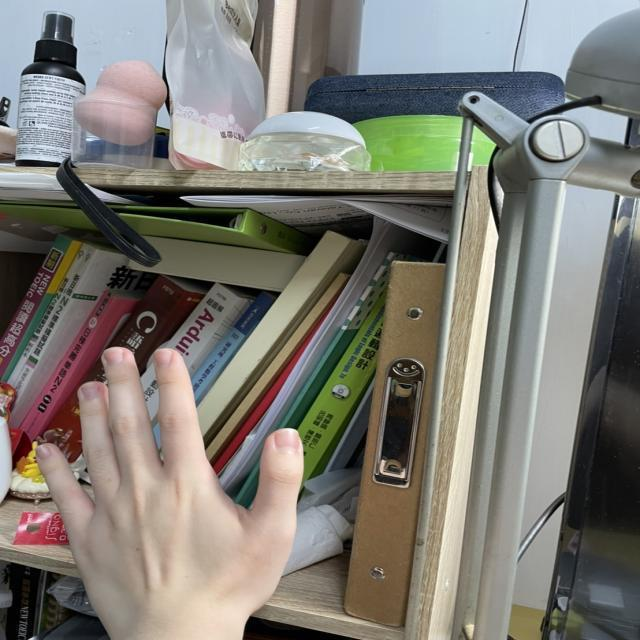hand: (22, 316, 313, 640)
